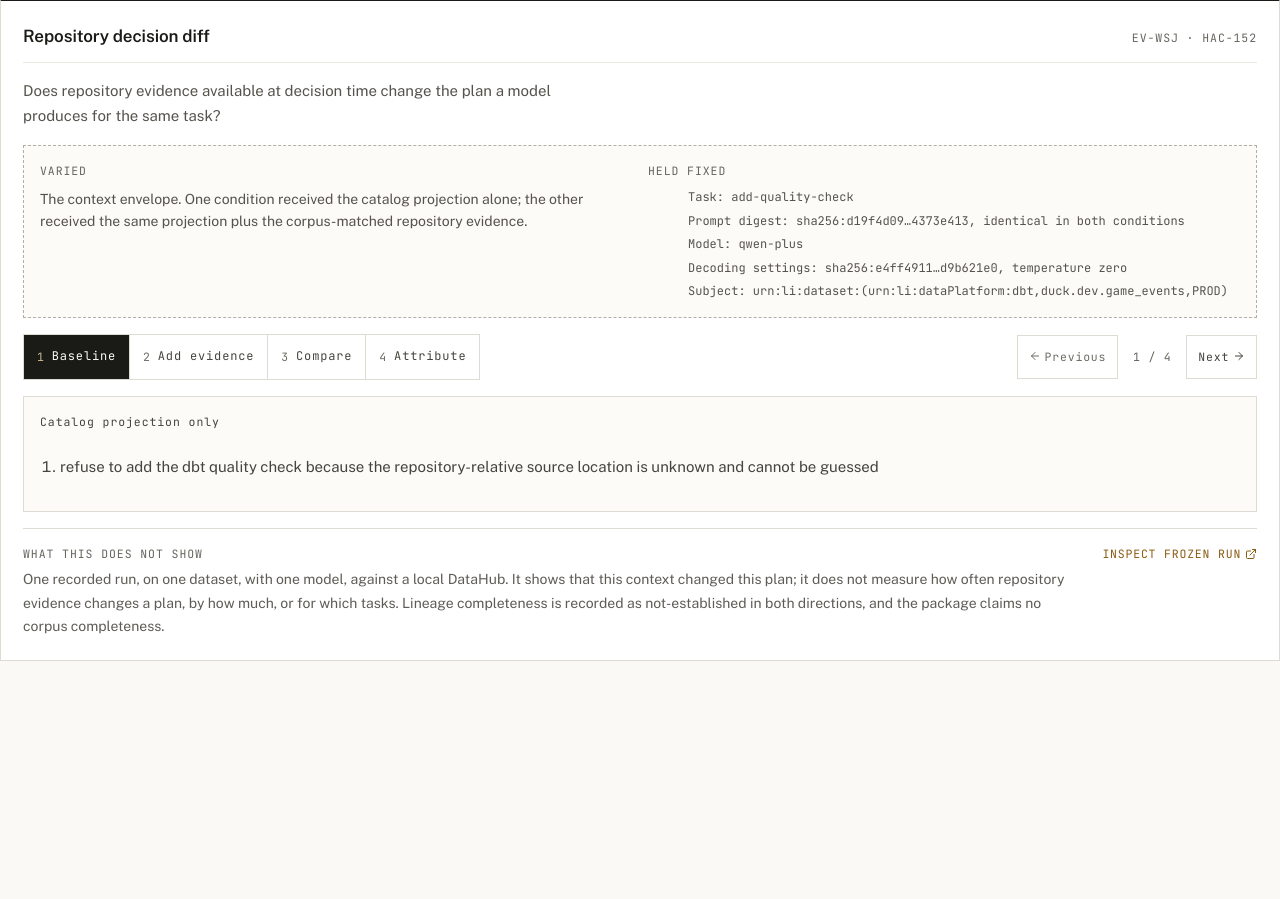
Test: RepositoryDecisionDiff › carries the recorded absence of co-change evidence rather than hiding it
Click the button "2 Add evidence": click(198, 357) [129,335,267,379]
(page scrolled)
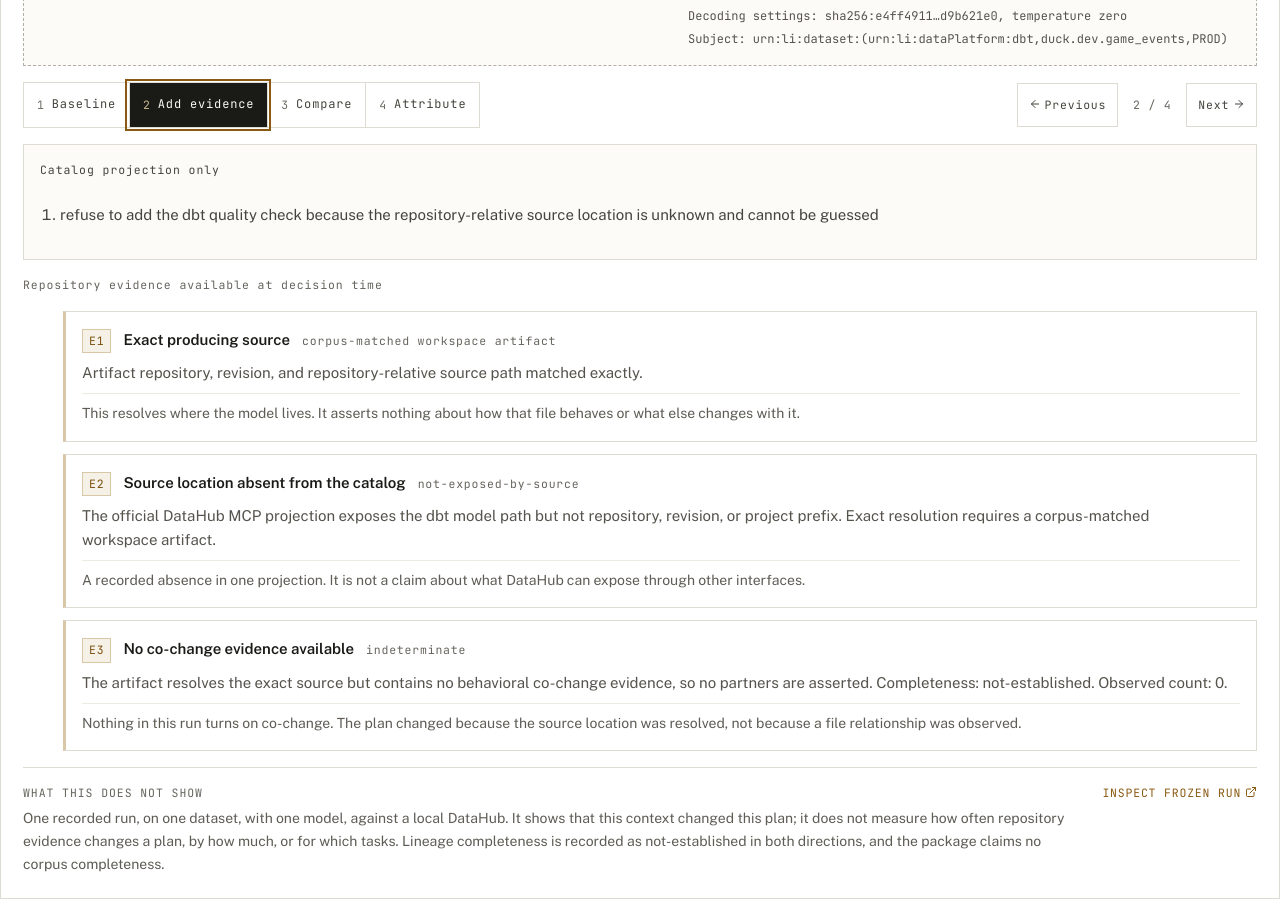
Result: the text "No co-change evidence available" is shown at [123,637,354,661]
Result: the text "no partners are asserted" is shown at [82,674,1228,691]
